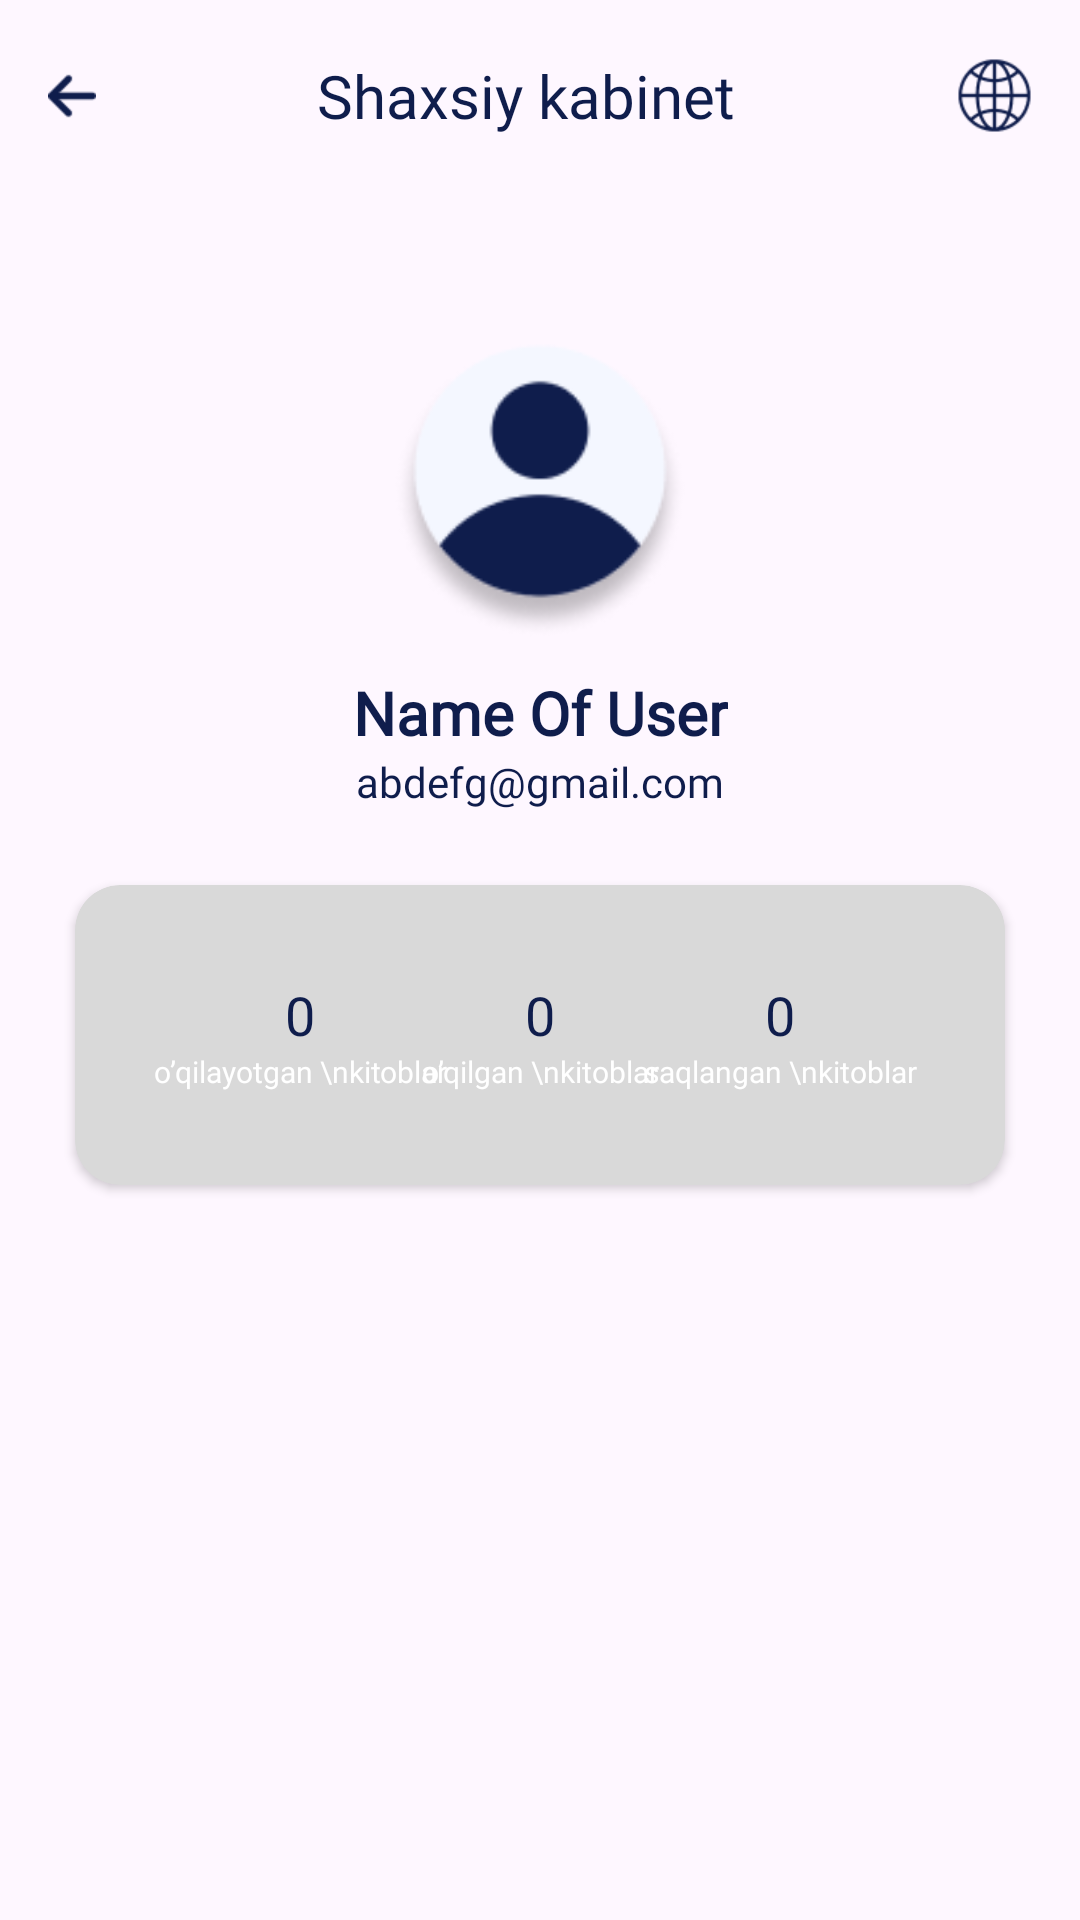

Icons on this 1080px×1920px Android screen, each with the point to tap as point (x, y):
back narrow: point (72, 96)
